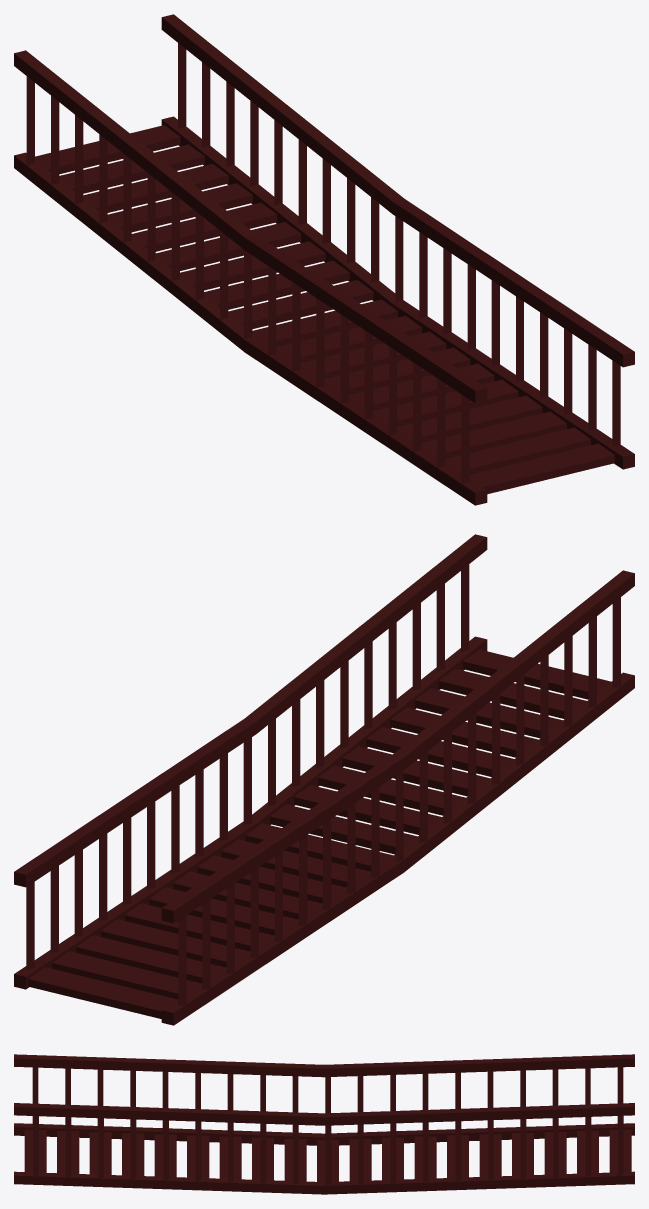
File: kopru_rvz.fbx
3 renders of one model, top to bottom at view 1: azimuth 30°, elevation 25°; view 2: azimuth 150°, elevation 25°; view 3: azimuth 270°, elevation 25°, orthographic. The views are drawn at different scales.
Visible parts, largest first — view 1: kopru; view 2: kopru; view 3: kopru.
Part boxes in pixels (<box>): kopru: <box>14,14,634,505</box>; kopru: <box>14,534,634,1025</box>; kopru: <box>14,1054,634,1194</box>.
Bounding box in the file's own units: 200 × 156 × 1000.
